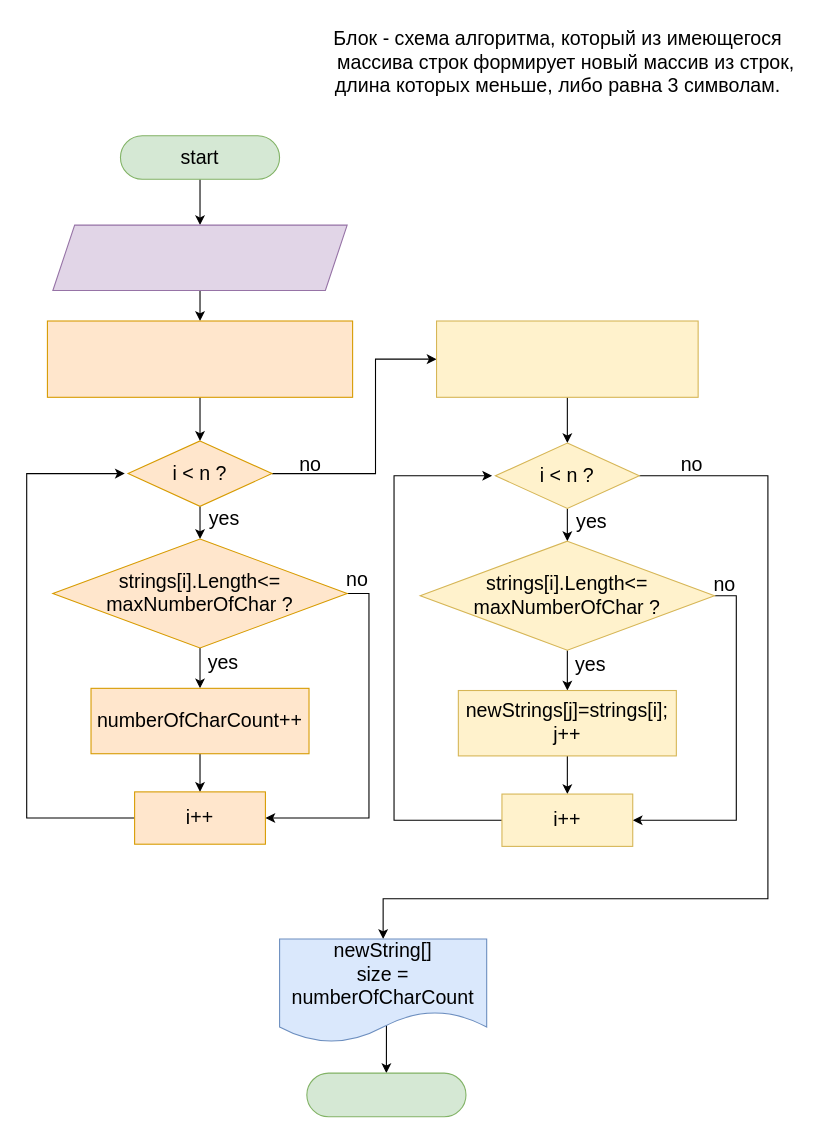
The diagram is 827 pixels wide and 1136 high, and some of its shapes have lost their labels. Here are the shapes that lost their labels. From the top down, the centre of each, then its label:
point (199, 257): strings = [string0, string1,..., string(n-1)]; size = n;
point (199, 358): numberOfCharCount = 0; maxNumberOfChar = 3
point (566, 358): newStrings[]; size = numberOfCharCount; i = 0; j = 0
point (386, 1094): finish
